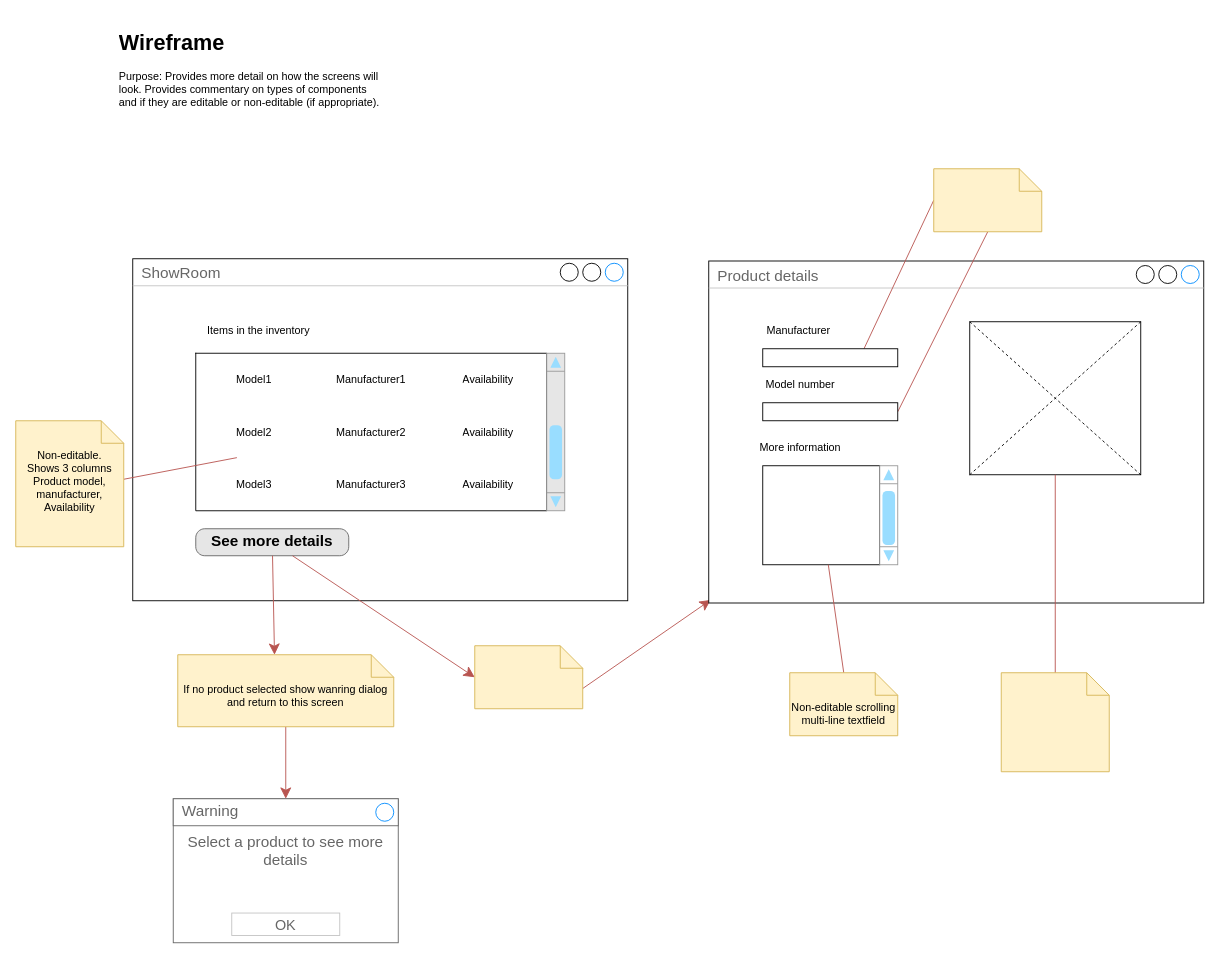
Some shapes in this 1220 by 959 pixel diagram are drawn without their labels. Each missing label, with the centre of its shape:
click to continue to tne details screen: point (528, 677)
Image of product. Shows an image not found icon if product image is not found.: point (1054, 722)
Non-editable textfields: point (987, 200)
